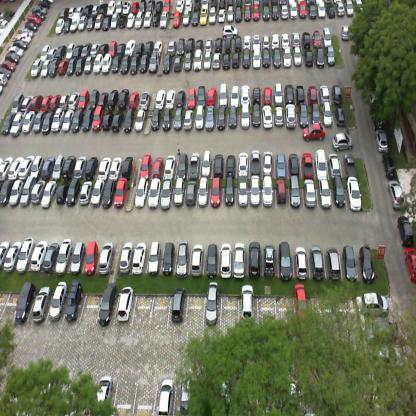car: (13, 281, 36, 325), (365, 348, 403, 373), (355, 290, 388, 318), (293, 281, 310, 330), (362, 322, 398, 344), (64, 280, 82, 322), (94, 375, 113, 414), (48, 280, 66, 321), (98, 283, 115, 326), (204, 279, 218, 328), (359, 242, 375, 284), (157, 377, 175, 413), (16, 237, 34, 273), (33, 285, 50, 323), (55, 238, 72, 276), (116, 286, 133, 323), (341, 244, 357, 283), (387, 178, 405, 211), (278, 240, 292, 282), (180, 368, 193, 413), (397, 214, 415, 246), (30, 240, 48, 272), (346, 176, 362, 212), (310, 244, 325, 282), (97, 242, 114, 275), (330, 173, 346, 208), (326, 245, 341, 282), (241, 282, 254, 324), (42, 241, 58, 273), (380, 150, 397, 180), (19, 176, 36, 206), (170, 286, 184, 322), (189, 244, 204, 277), (147, 177, 162, 210), (232, 241, 245, 279), (4, 241, 21, 270), (294, 244, 308, 279), (83, 241, 98, 273), (131, 241, 146, 273), (404, 247, 416, 286), (119, 242, 133, 275), (161, 242, 175, 275), (134, 178, 148, 211), (113, 177, 127, 210), (40, 180, 57, 207), (248, 241, 260, 279), (147, 240, 160, 275), (317, 179, 332, 209), (101, 179, 116, 209), (0, 178, 15, 208), (343, 152, 359, 180), (71, 240, 84, 274), (18, 153, 35, 179), (314, 148, 328, 179), (159, 179, 173, 210), (176, 241, 188, 277), (263, 242, 275, 278), (220, 243, 232, 278), (288, 173, 300, 208), (303, 177, 316, 209), (302, 124, 325, 142), (206, 243, 218, 277), (90, 178, 104, 207), (172, 177, 185, 208), (331, 132, 353, 150), (197, 176, 209, 209), (301, 152, 315, 180), (184, 179, 198, 207), (67, 178, 81, 206), (175, 152, 188, 181), (8, 156, 24, 179), (9, 114, 25, 137), (374, 126, 388, 152), (328, 152, 342, 178), (61, 155, 75, 181), (30, 179, 44, 205), (78, 180, 92, 206), (262, 174, 273, 207), (210, 176, 221, 209), (275, 176, 287, 206), (55, 181, 70, 205), (91, 105, 104, 132), (84, 157, 98, 182), (237, 178, 249, 207), (21, 111, 36, 134), (0, 155, 13, 181), (150, 156, 164, 180), (238, 149, 249, 179), (98, 156, 112, 179), (41, 157, 55, 180), (30, 155, 44, 178), (1, 112, 15, 135), (200, 149, 211, 178), (249, 150, 261, 176), (212, 152, 224, 178), (164, 154, 176, 180), (52, 154, 64, 180), (284, 102, 296, 128), (261, 103, 273, 129), (134, 108, 146, 134), (81, 106, 93, 132), (70, 109, 83, 133), (51, 109, 64, 133), (225, 175, 235, 206), (288, 151, 299, 179), (189, 152, 200, 180), (108, 156, 122, 178), (31, 111, 45, 133), (250, 176, 260, 206), (140, 154, 152, 179), (61, 109, 73, 134), (123, 108, 134, 135), (334, 103, 346, 127), (310, 103, 322, 127), (172, 106, 184, 130), (73, 156, 86, 178), (217, 82, 228, 108), (106, 89, 119, 111), (111, 109, 124, 131), (77, 87, 90, 109), (40, 112, 53, 134), (118, 54, 131, 76), (322, 100, 332, 128), (205, 104, 215, 132), (10, 93, 24, 113), (229, 84, 241, 107), (192, 47, 203, 72), (121, 156, 134, 177), (101, 111, 114, 132), (240, 103, 250, 130), (332, 82, 343, 106), (307, 82, 319, 104), (182, 109, 194, 131), (164, 88, 176, 110), (117, 88, 129, 110), (321, 24, 332, 48), (148, 51, 160, 73), (128, 54, 140, 76), (101, 52, 112, 76), (30, 57, 42, 79), (299, 102, 309, 128), (274, 80, 284, 106), (86, 89, 99, 109), (222, 23, 238, 39), (139, 52, 150, 75), (193, 105, 203, 130), (251, 102, 260, 129), (263, 151, 273, 175), (226, 153, 236, 177), (319, 83, 331, 103), (284, 82, 294, 106), (150, 107, 160, 131), (128, 90, 140, 110), (68, 90, 80, 110), (39, 58, 51, 78), (1, 240, 10, 266), (162, 107, 171, 133), (277, 152, 285, 181), (162, 54, 173, 75), (216, 107, 226, 130), (41, 92, 53, 111), (56, 57, 68, 76), (20, 93, 33, 110), (240, 83, 250, 105), (196, 84, 206, 106), (282, 47, 292, 69), (202, 49, 212, 71), (183, 50, 193, 72), (110, 54, 121, 74), (92, 54, 103, 74), (66, 56, 77, 76), (228, 106, 237, 130), (48, 92, 60, 110), (31, 94, 43, 112), (108, 11, 120, 29), (272, 47, 282, 68), (8, 44, 23, 58), (206, 86, 217, 105), (175, 90, 186, 109), (154, 88, 165, 107), (172, 54, 183, 73), (48, 58, 59, 77), (58, 92, 71, 108), (327, 44, 336, 67), (76, 13, 88, 30), (296, 81, 304, 106), (312, 28, 322, 48), (301, 30, 311, 50), (303, 48, 313, 68), (340, 21, 350, 41), (280, 28, 290, 48), (211, 50, 221, 70), (184, 36, 194, 56), (74, 56, 84, 76), (70, 12, 80, 32), (134, 10, 144, 30), (262, 86, 273, 104), (188, 86, 197, 108), (139, 91, 150, 109), (343, 0, 354, 18), (221, 49, 230, 71), (83, 55, 94, 73), (40, 43, 50, 62), (98, 90, 109, 107), (84, 15, 95, 32), (291, 29, 301, 47), (252, 33, 262, 51), (251, 51, 261, 69), (81, 42, 93, 57), (5, 51, 20, 63), (118, 12, 128, 30), (142, 10, 152, 28), (159, 11, 169, 29), (298, 0, 308, 18), (308, 1, 318, 19), (274, 106, 282, 128), (317, 48, 325, 70), (124, 38, 135, 54), (293, 47, 302, 66), (242, 49, 251, 68), (172, 10, 181, 29), (181, 8, 190, 27), (66, 42, 76, 59), (216, 7, 226, 24), (32, 8, 45, 21), (55, 44, 67, 58), (24, 21, 38, 33), (28, 14, 42, 26), (200, 5, 208, 26), (72, 44, 83, 59), (2, 60, 17, 71), (12, 40, 27, 51), (17, 33, 32, 44), (101, 14, 112, 29), (271, 32, 280, 50), (63, 16, 72, 34), (125, 11, 134, 29), (327, 1, 336, 19), (177, 36, 185, 56), (107, 40, 117, 56), (54, 18, 64, 34), (242, 6, 252, 22), (46, 46, 58, 59), (317, 2, 326, 19), (252, 87, 260, 106), (232, 51, 240, 70), (208, 5, 216, 24), (242, 34, 252, 49), (115, 41, 125, 56), (262, 32, 270, 50), (262, 50, 270, 68), (167, 38, 176, 54), (191, 10, 200, 26), (226, 5, 234, 23), (252, 2, 260, 20), (262, 3, 270, 21), (134, 42, 145, 55), (74, 5, 85, 18), (204, 37, 214, 51), (193, 38, 203, 52), (143, 40, 153, 54), (90, 42, 100, 56), (94, 14, 104, 28), (272, 3, 280, 20), (281, 3, 289, 20), (355, 0, 364, 15), (98, 42, 109, 54), (1, 67, 12, 79), (152, 39, 162, 52), (290, 2, 297, 20), (36, 3, 47, 14), (145, 0, 156, 11), (224, 36, 232, 51), (214, 36, 222, 51), (60, 6, 70, 18), (83, 3, 93, 15), (106, 1, 116, 13), (114, 1, 124, 13), (130, 1, 140, 13), (234, 35, 241, 52), (21, 28, 34, 37), (152, 12, 160, 26), (175, 0, 184, 12), (90, 4, 100, 14), (98, 3, 108, 13), (162, 1, 172, 11), (138, 0, 147, 11), (0, 74, 9, 85), (38, 0, 50, 8), (235, 7, 241, 23), (184, 0, 192, 12), (123, 1, 132, 11), (68, 5, 76, 16), (155, 1, 163, 12), (193, 0, 200, 11)
